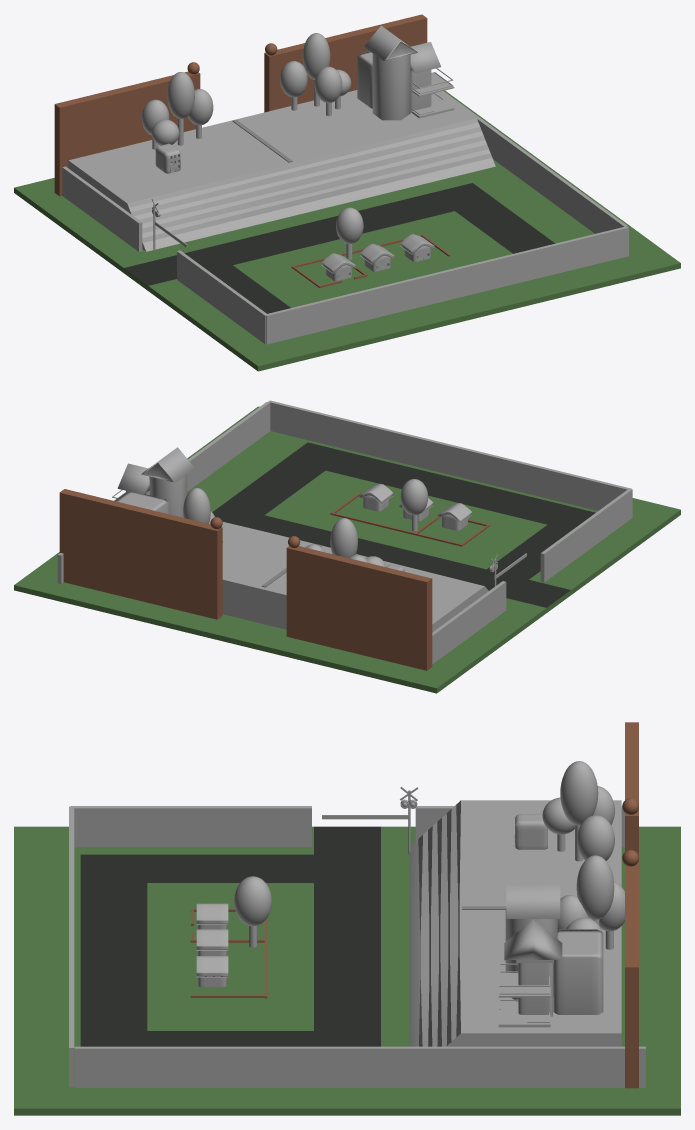
File: TutorialLevel.fbx
3 renders of one model, top to bottom at view 1: azimuth 30°, elevation 25°; view 2: azimuth 150°, elevation 25°; view 3: azimuth 270°, elevation 25°, orthographic. The views are drawn at different scales.
Visible parts, largest first — view 1: DeathsDoorWhitebox__1_:pasted__pasted__pasted__pasted__paste; view 2: DeathsDoorWhitebox__1_:pasted__pasted__pasted__pasted__paste; view 3: DeathsDoorWhitebox__1_:pasted__pasted__pasted__pasted__paste.
Part boxes in pixels (<box>): DeathsDoorWhitebox__1_:pasted__pasted__pasted__pasted__paste: <box>14,14,680,371</box>; DeathsDoorWhitebox__1_:pasted__pasted__pasted__pasted__paste: <box>14,400,680,693</box>; DeathsDoorWhitebox__1_:pasted__pasted__pasted__pasted__paste: <box>14,722,680,1115</box>.
Bounding box in the file's own units: 436 × 130 × 436.
